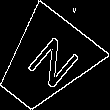N_SW: (13, 31, 78, 95)
